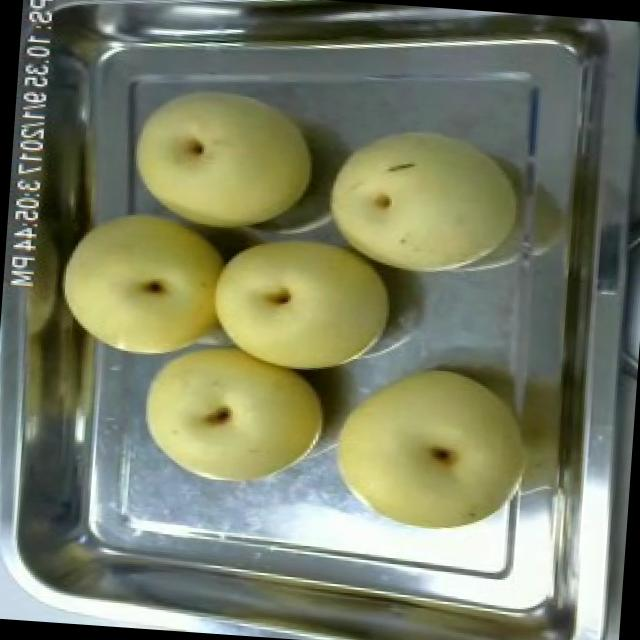Fruit: (321, 351, 534, 545), (313, 113, 528, 290), (117, 72, 324, 247), (44, 193, 243, 374), (127, 332, 333, 498), (200, 218, 400, 387)
